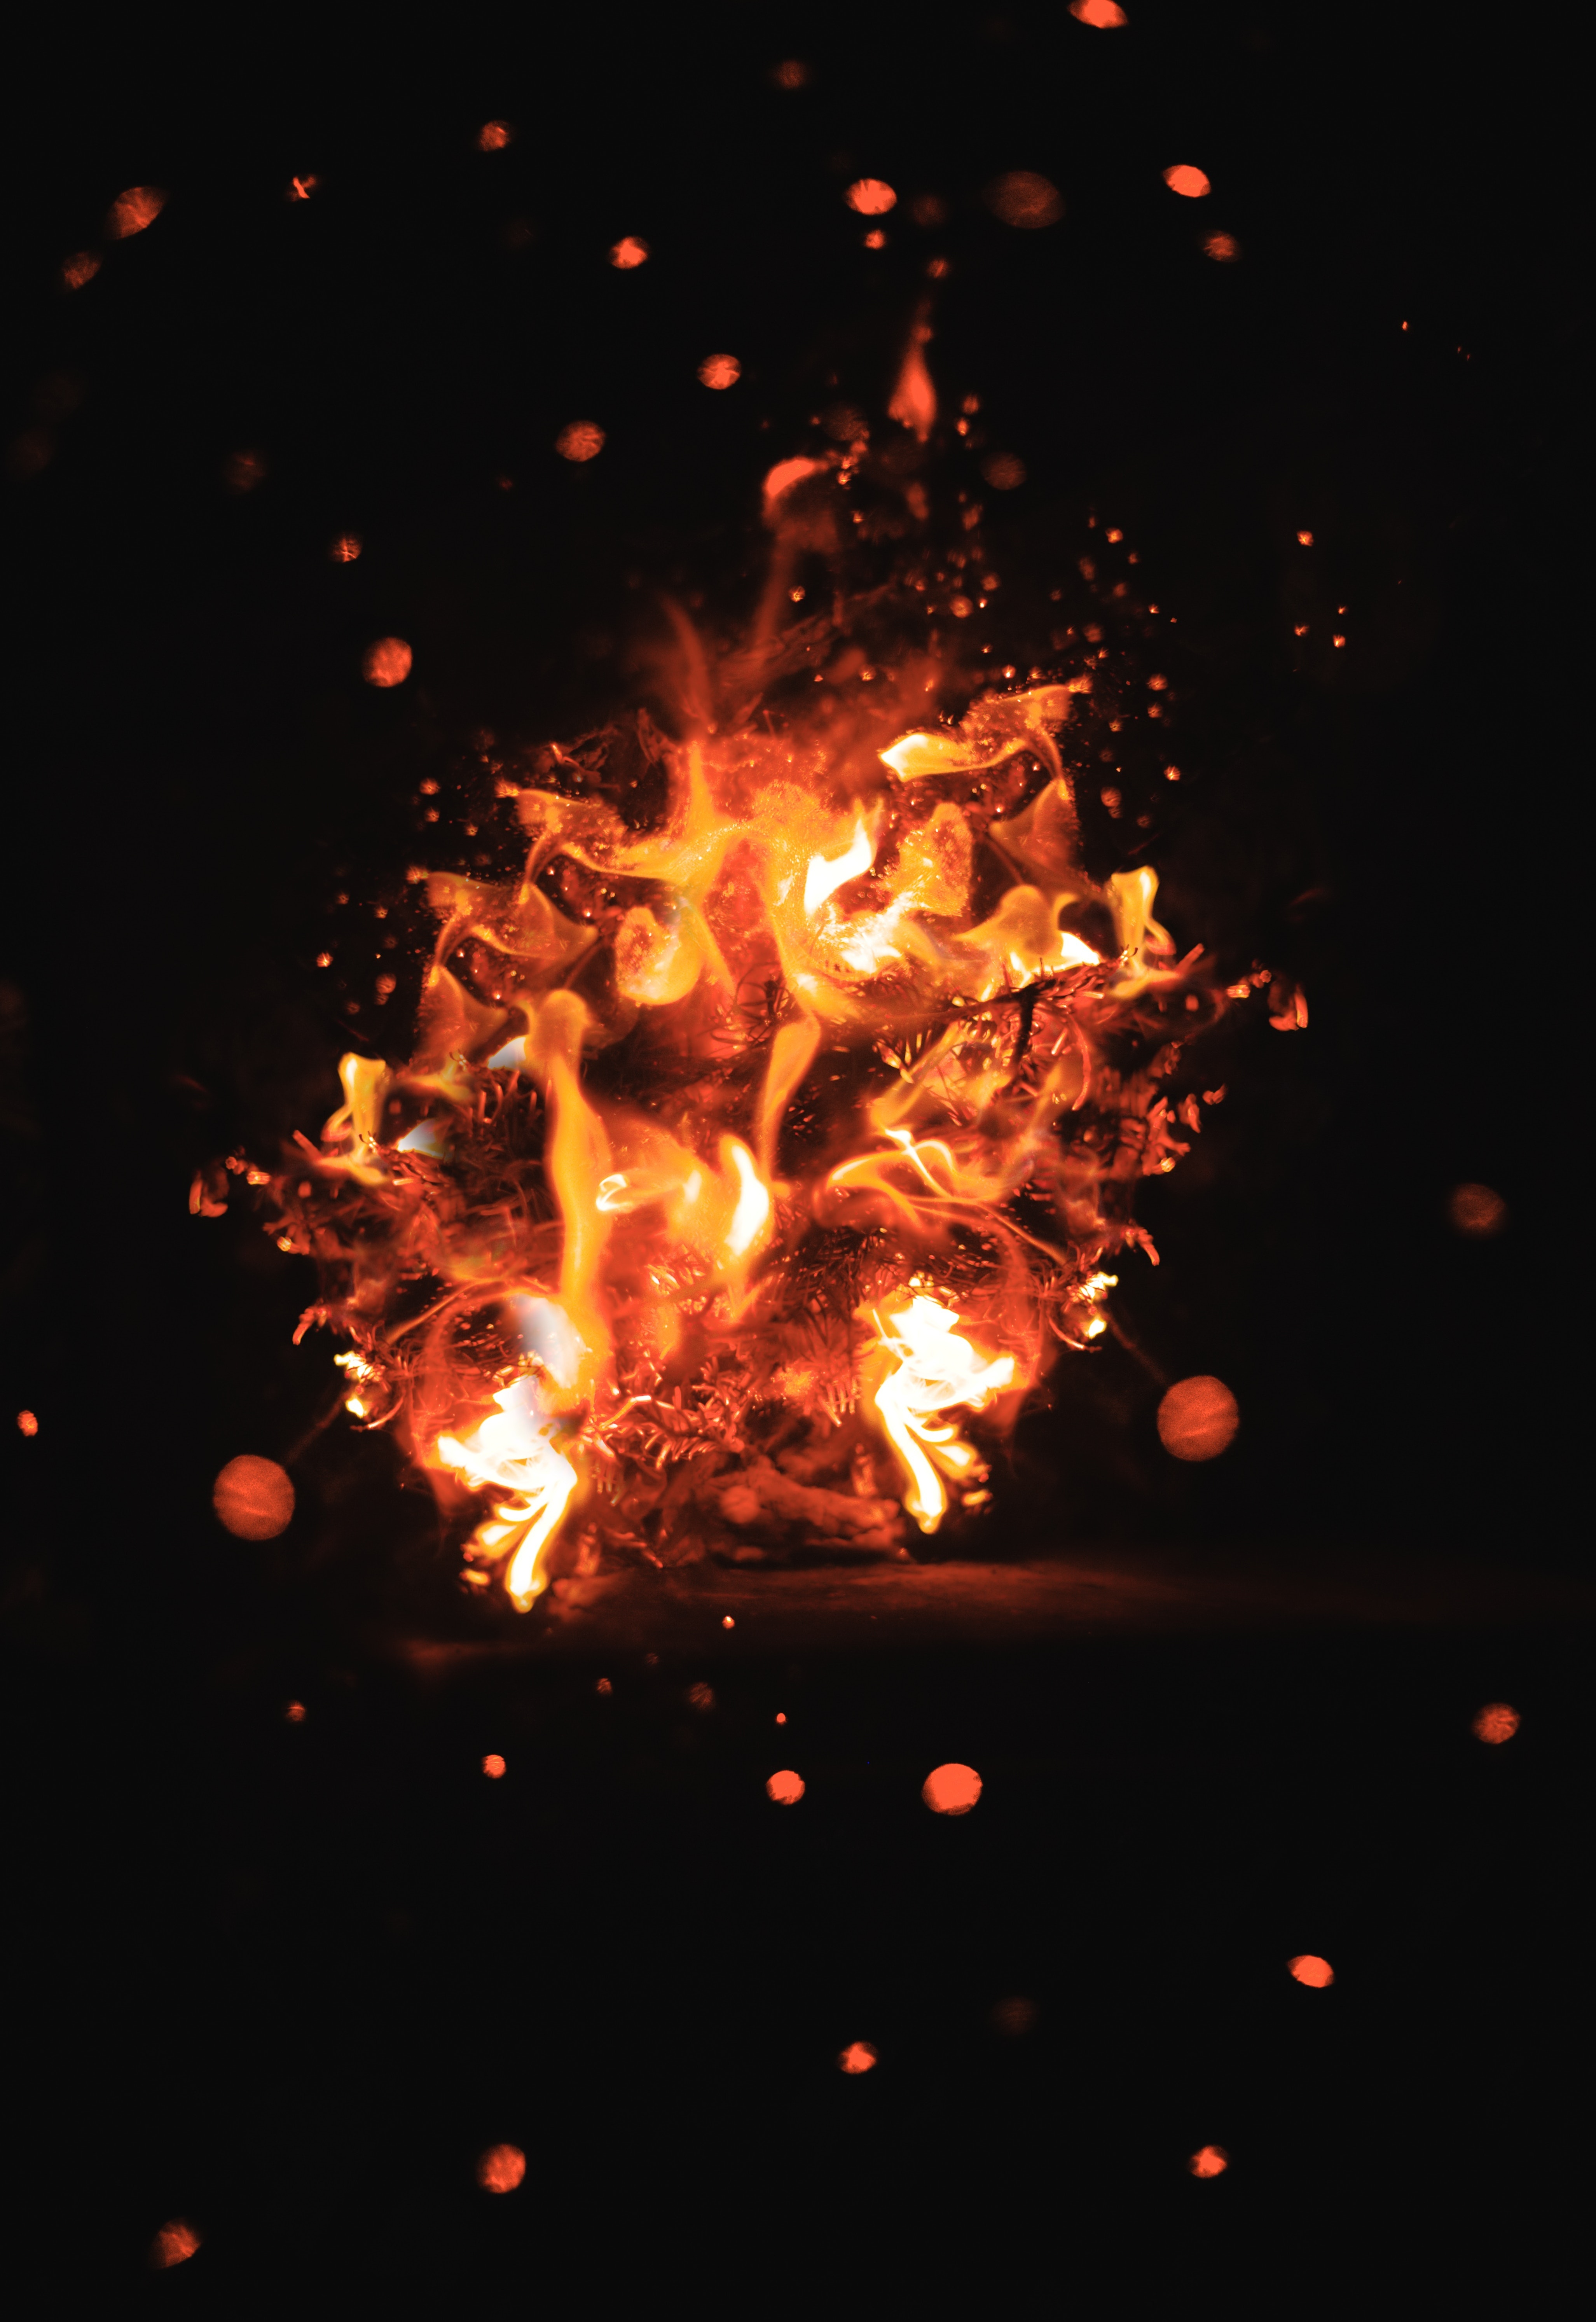fire: (273, 623, 1206, 1590)
